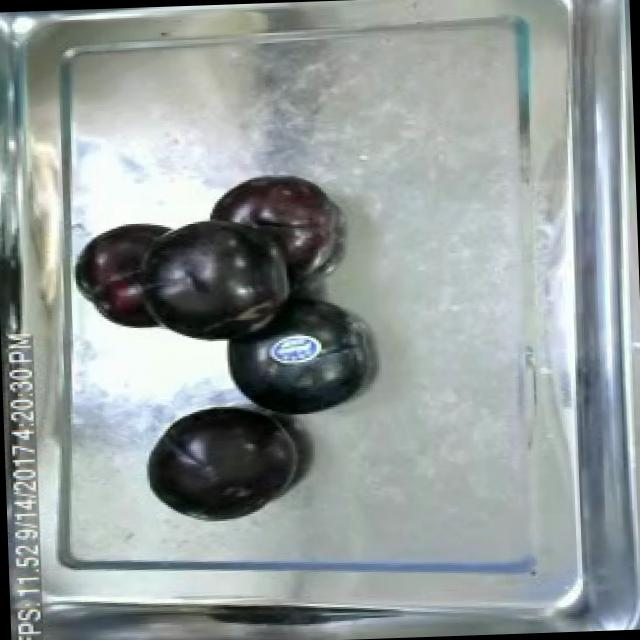Fruit: (212, 274, 380, 432), (137, 392, 307, 528), (198, 165, 348, 262)
